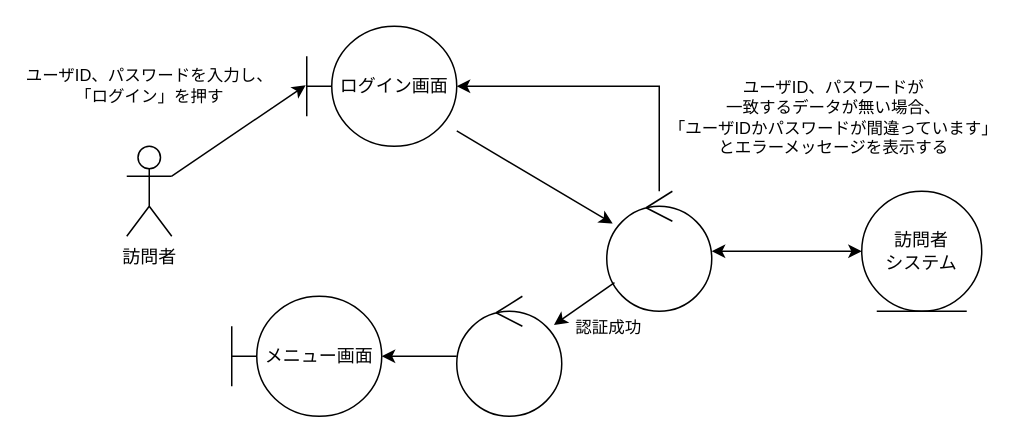
This 1023x443 diagram has some shape labels left out. Here are the shapes that lost their labels. From the top down, the box of each, then its label:
(605, 190, 712, 311): 認証
(455, 295, 562, 416): メニュー 画面 表示
